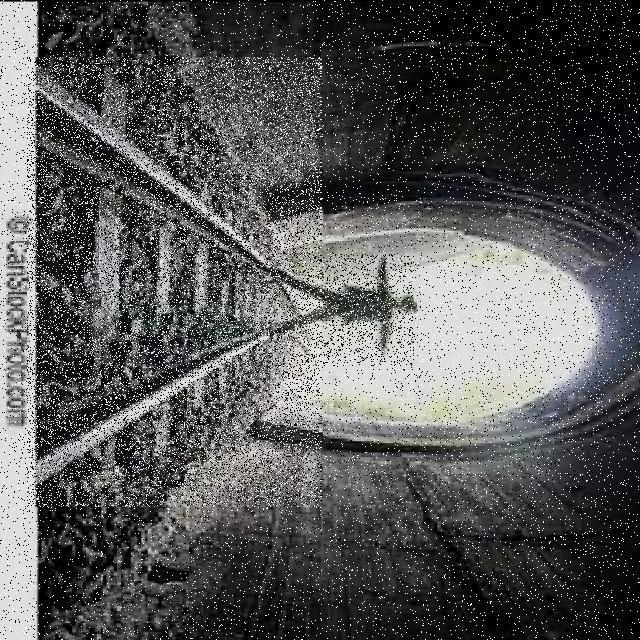rail: (28, 59, 322, 508)
